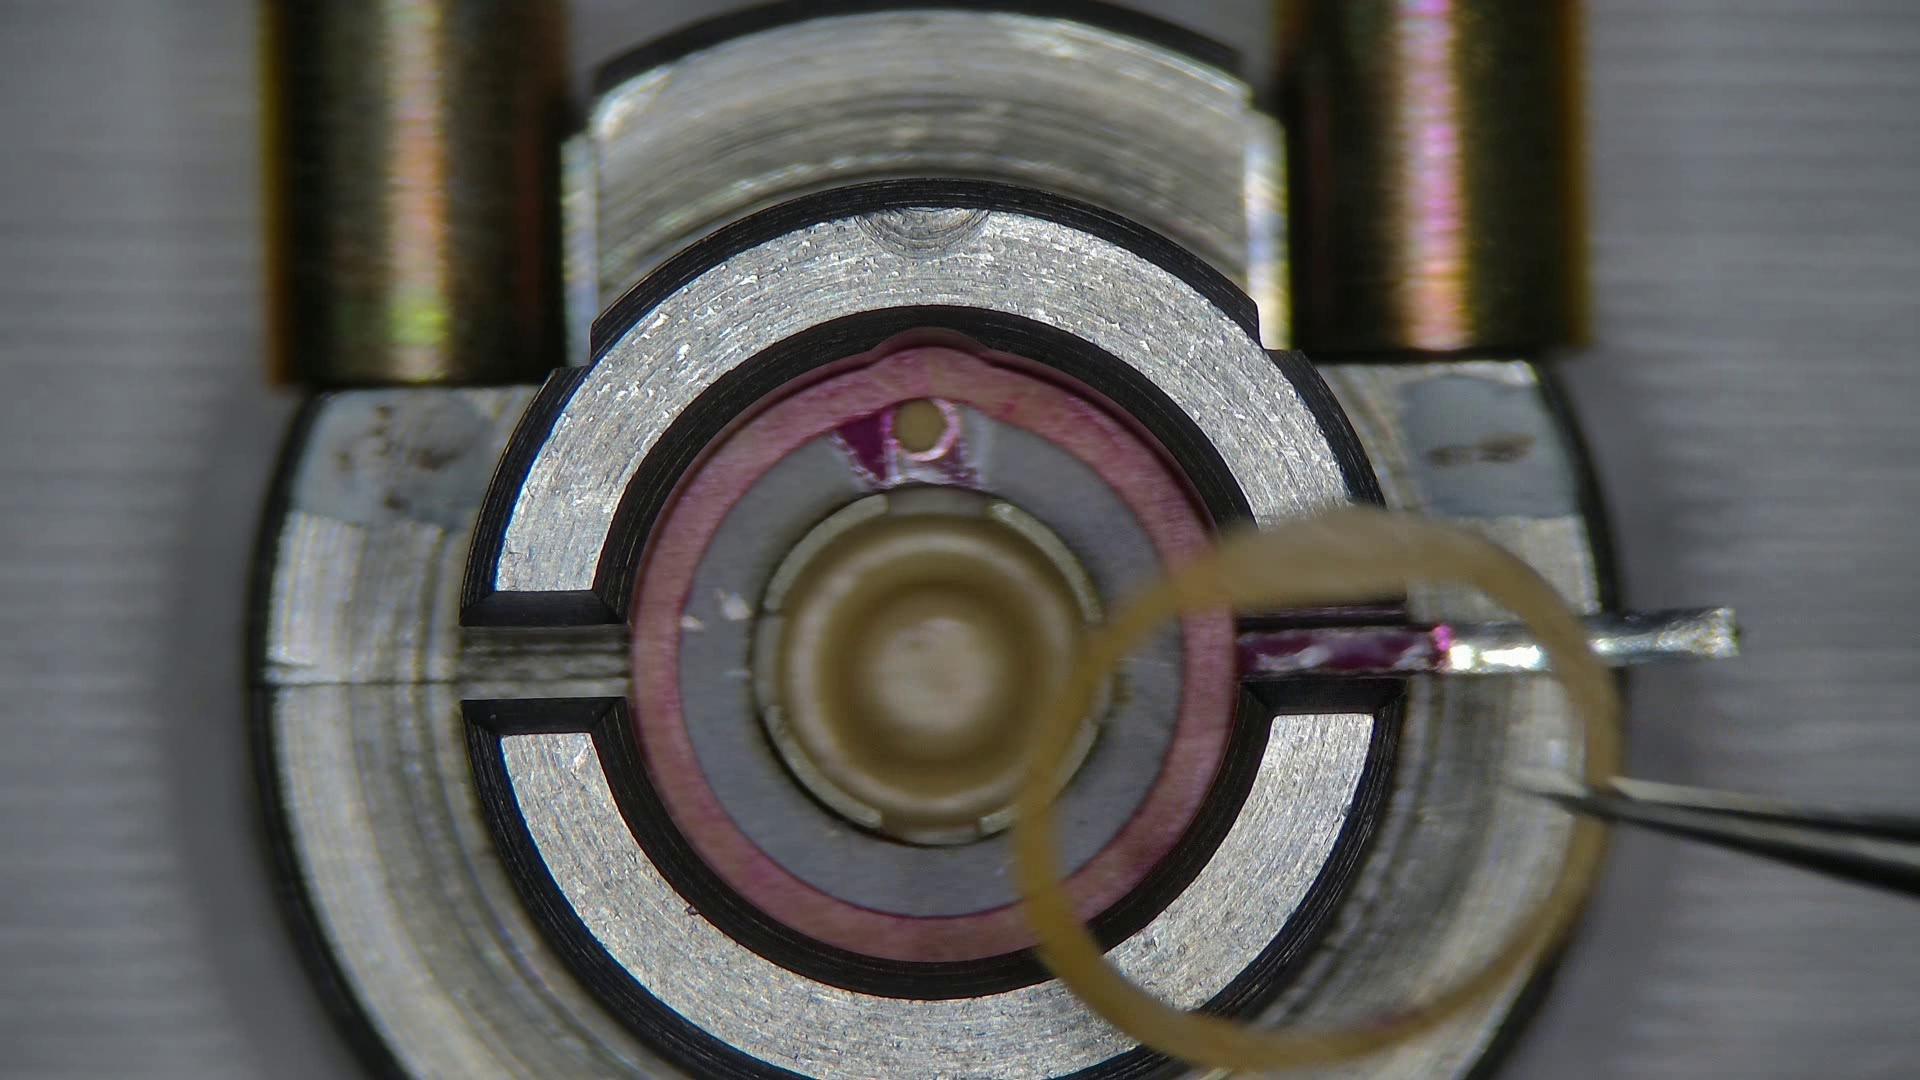GreyOring: (630, 344, 1207, 957), (1067, 618, 1234, 914)
YellowOring: (680, 400, 1156, 914), (1052, 629, 1182, 866)
redOring: (1015, 513, 1619, 1069)
